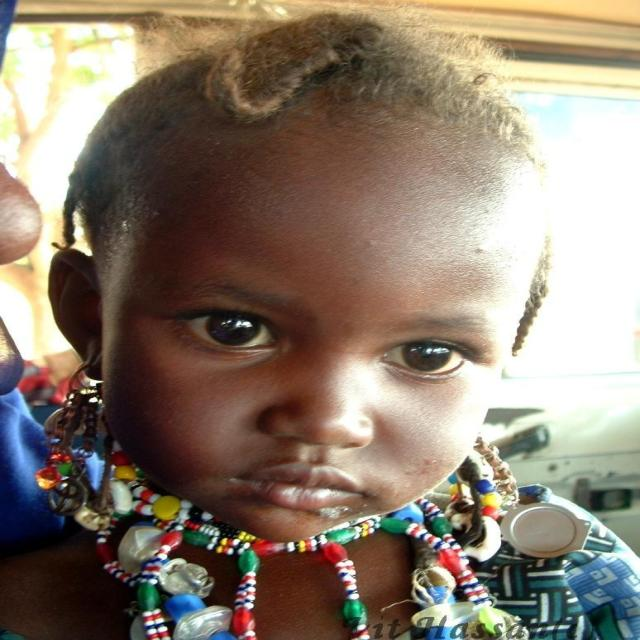no-glass: (176, 306, 479, 379)
